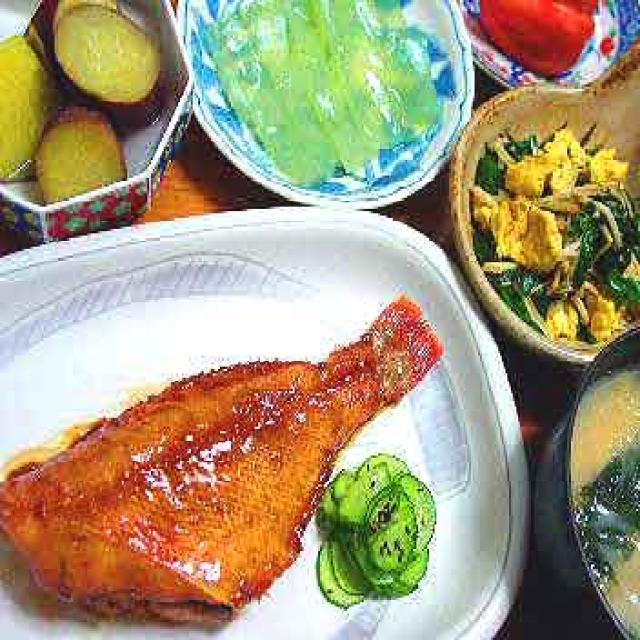熟制海鲜: (0, 316, 460, 614)
